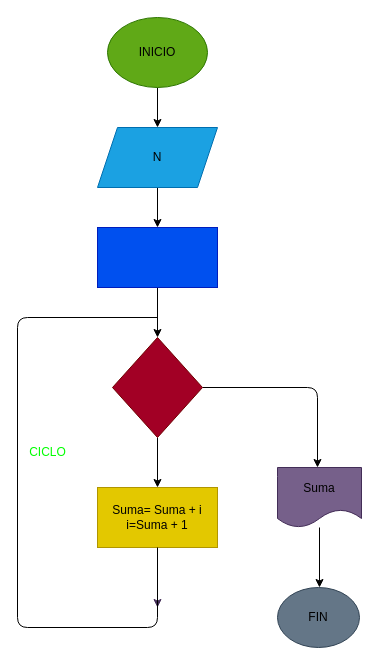
The diagram is 379 pixels wide and 665 high, and some of its shapes have lost their labels. Each missing label, with the centre of its shape:
"i<= N" belongs at point (157, 387).
"Suma = 0 i = 1" belongs at point (157, 257).
